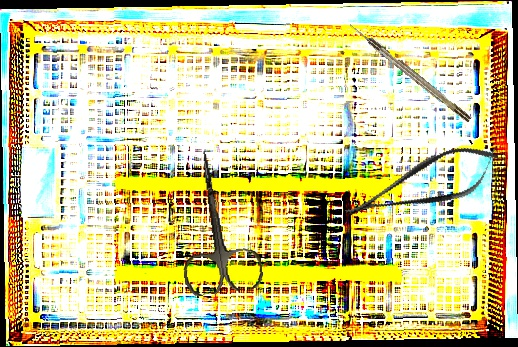Hook Surgical: (348, 21, 472, 124)
Iris Scissors: (167, 145, 265, 298)
Micro Scissor: (337, 134, 507, 235)
